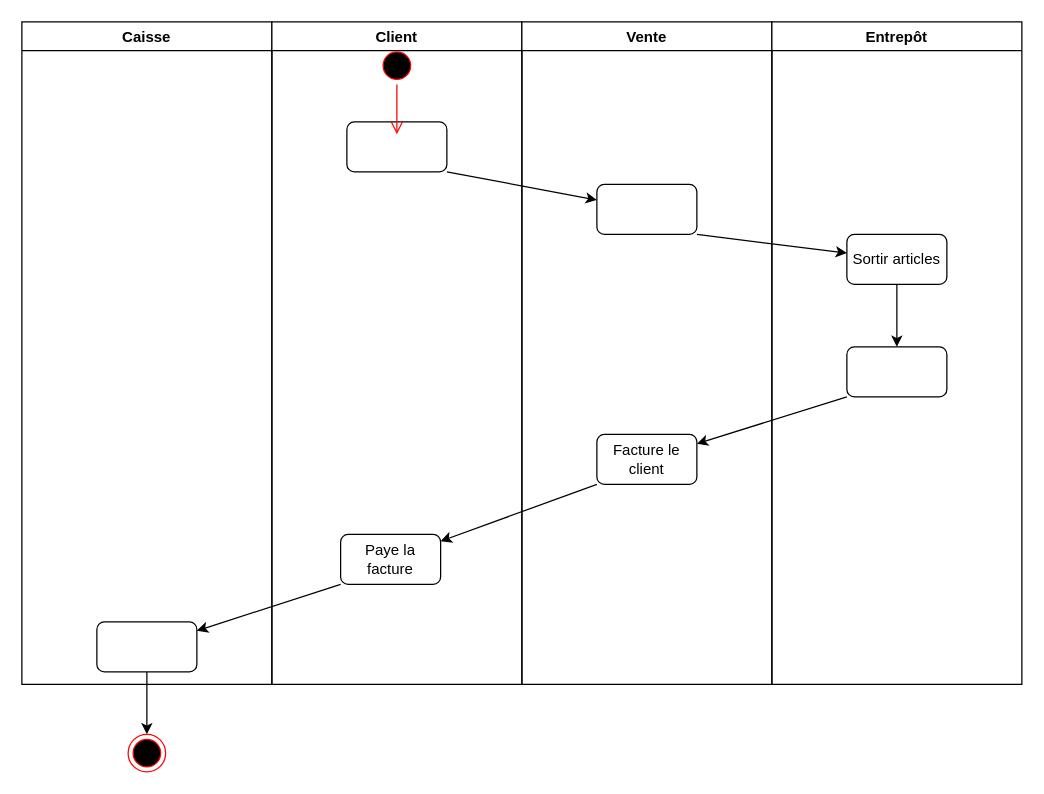
Some shapes in this 1044 by 794 pixel diagram are drawn without their labels. The centre of each missing label's shape, as x and y in pixels:
"Commande un produit" goes at (x=396, y=146).
"Encaisse" goes at (x=146, y=646).
"Expédier" goes at (x=896, y=371).
"Traiter la commande" goes at (x=646, y=208).
